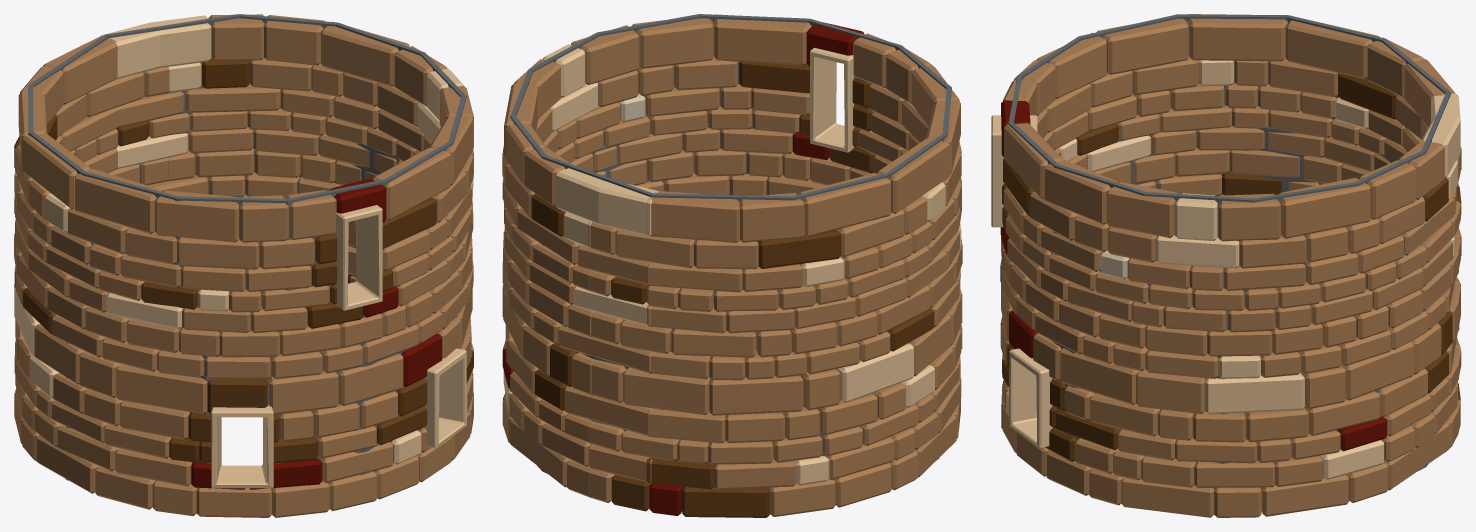
Rendered from mid-section-with-three-slits.glb.
3 renders of one model, left to right at view 1: azimuth 30°, elevation 25°; view 2: azimuth 150°, elevation 25°; view 3: azimuth 270°, elevation 25°, orthographic.
Visible parts, largest first — view 1: main-wall.086, grout-wall.001, upper-slit-frame, right-slit-frame, left-slit-frame; view 2: main-wall.086, grout-wall.001, upper-slit-frame; view 3: main-wall.086, grout-wall.001, right-slit-frame, upper-slit-frame.
Part boxes in pixels (x1,y1,x2,y2): main-wall.086: [14, 14, 473, 517]; grout-wall.001: [28, 14, 466, 488]; upper-slit-frame: [336, 205, 382, 310]; right-slit-frame: [423, 348, 466, 448]; left-slit-frame: [211, 405, 273, 488]; main-wall.086: [502, 14, 962, 517]; grout-wall.001: [510, 14, 951, 508]; upper-slit-frame: [810, 47, 854, 152]; main-wall.086: [1000, 14, 1461, 517]; grout-wall.001: [1008, 14, 1450, 514]; right-slit-frame: [1009, 348, 1052, 448]; upper-slit-frame: [991, 115, 1037, 227].
Size of the model in its own units: 2.9 by 2.19 by 2.96.
